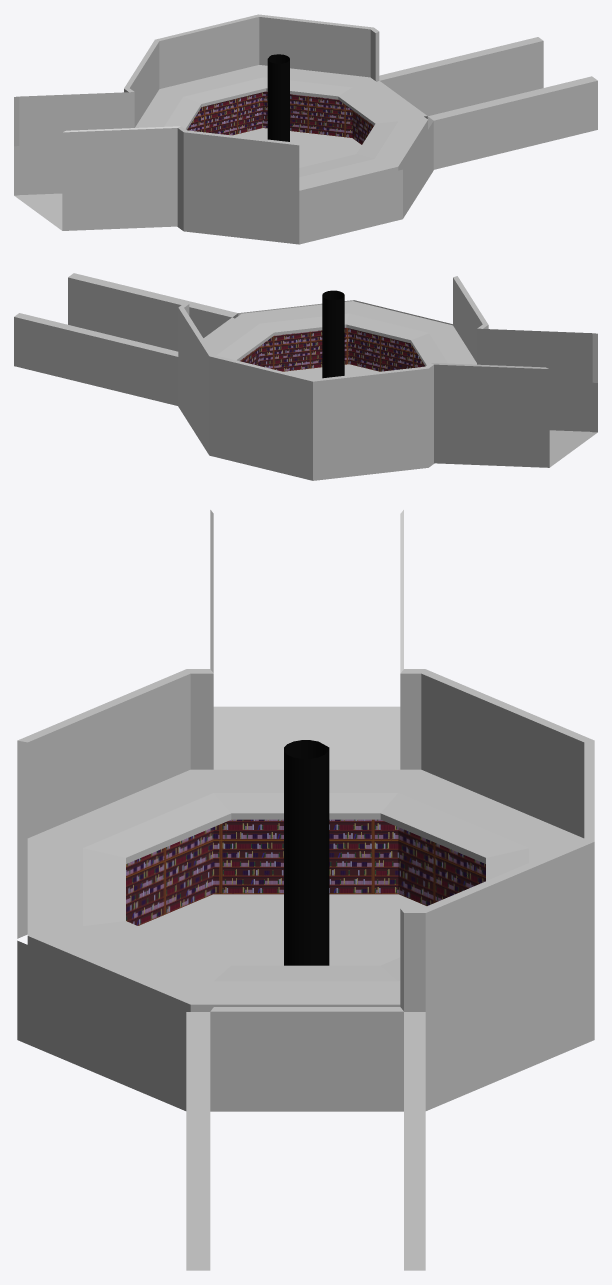
The model's file is Room.fbx.
The picture shows the model from 3 angles, top to bottom: view 1: azimuth 30°, elevation 25°; view 2: azimuth 150°, elevation 25°; view 3: azimuth 270°, elevation 25°; orthographic projection. The views are drawn at different scales.
Parts seen in each view (by area): view 1: polySurface77; view 2: polySurface77; view 3: polySurface77.
Boxes of the visible parts, x1,y1,x2,y2 form: polySurface77: (14, 14, 597, 244); polySurface77: (14, 273, 597, 480); polySurface77: (17, 510, 594, 1270).
Bounding box in the file's own units: 73.17 × 16.37 × 34.55.
